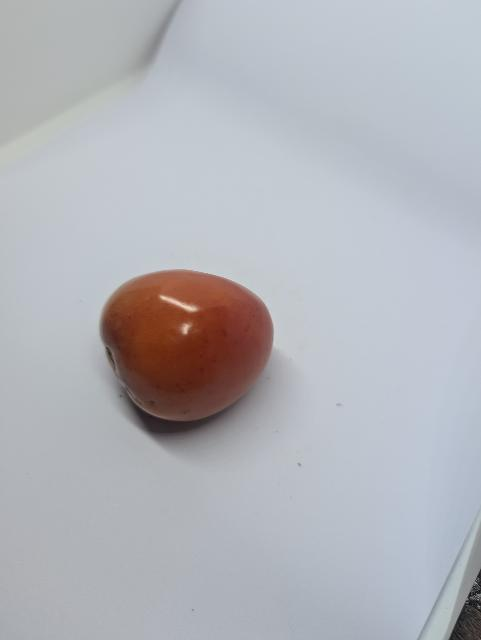red: (95, 267, 283, 432)
